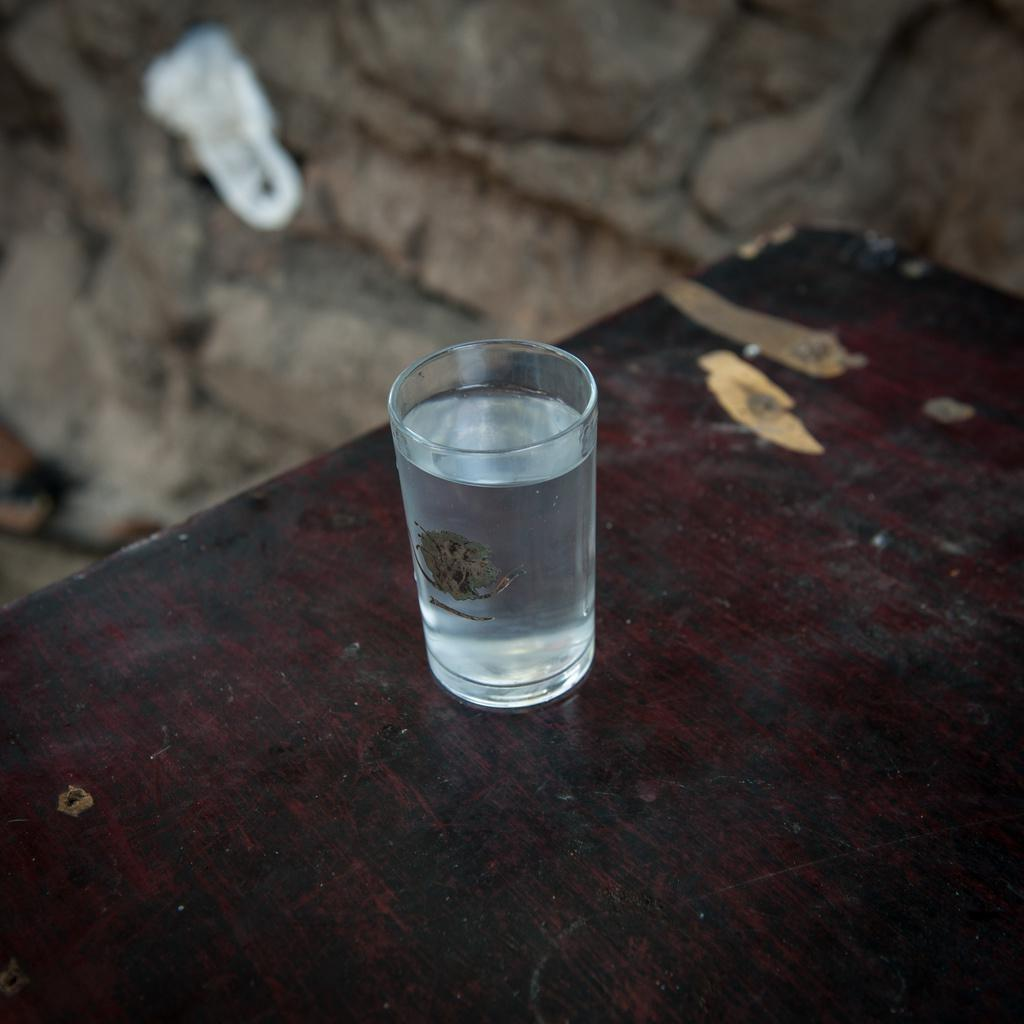glass-normal: (380, 341, 611, 713)
